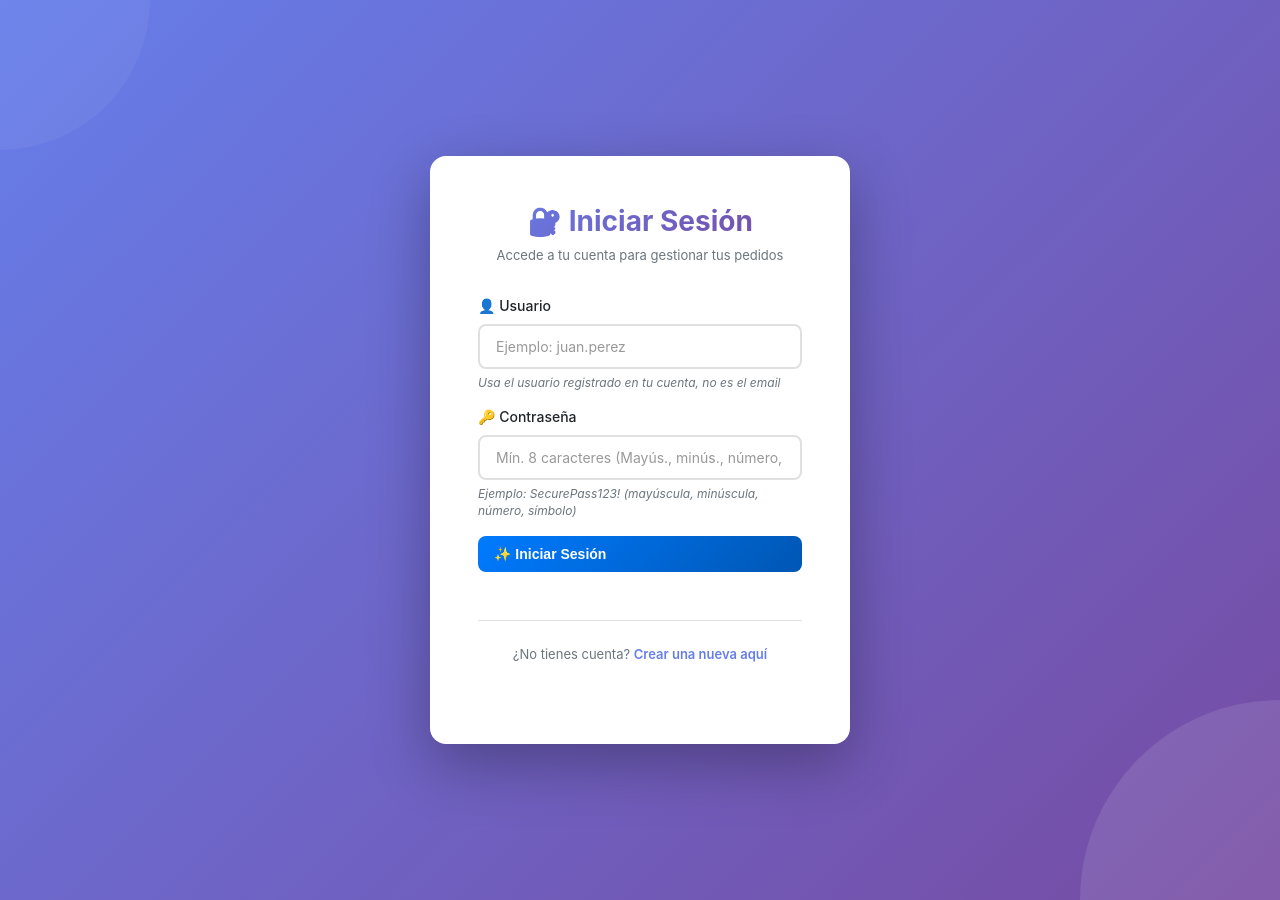
Login Component › should show validation error if password is empty
In the field labelled "👤 Usuario": [640, 347] box [478, 324, 802, 369], type "testuser"
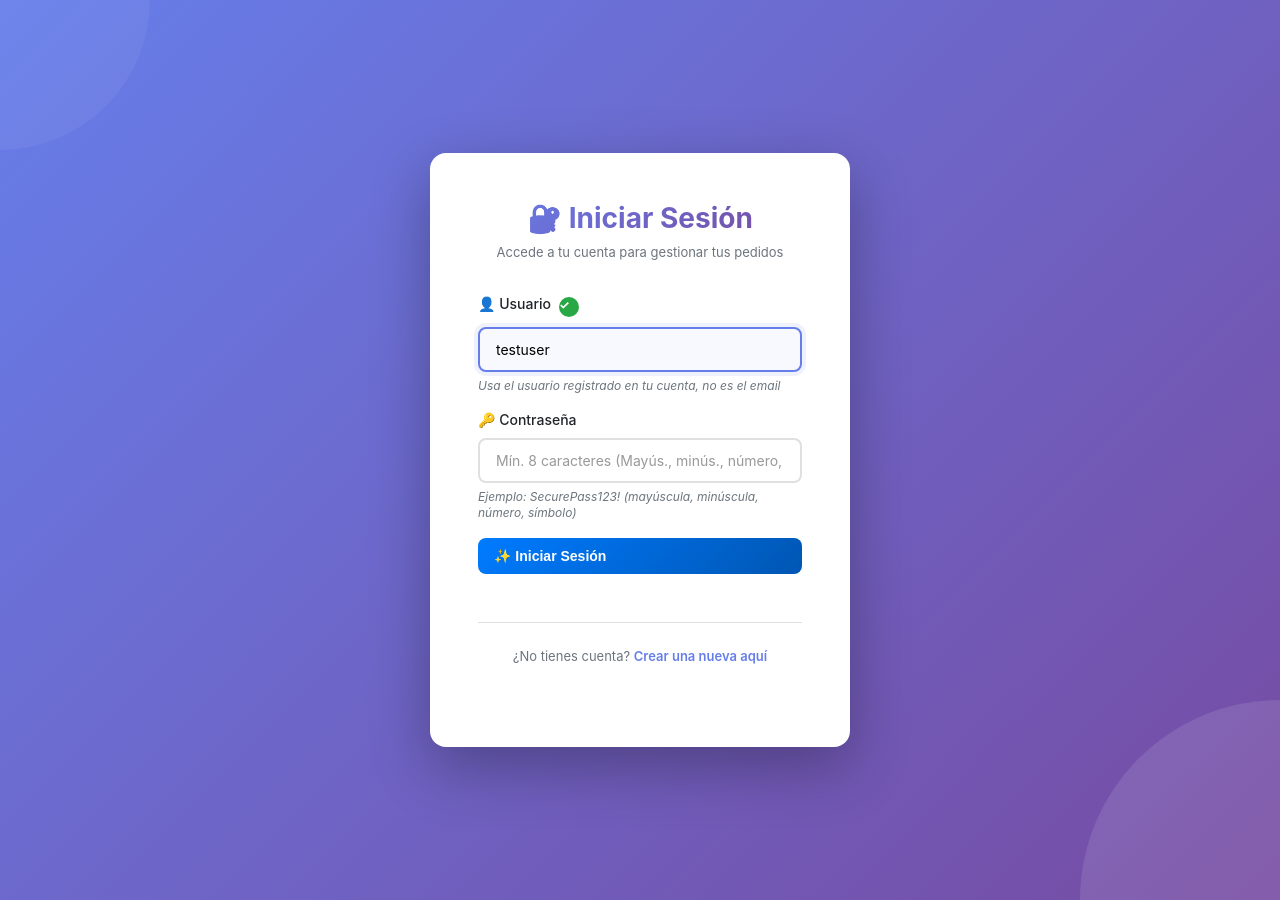
Click the button "✨ Iniciar Sesión": [550, 556] box [478, 538, 802, 574]
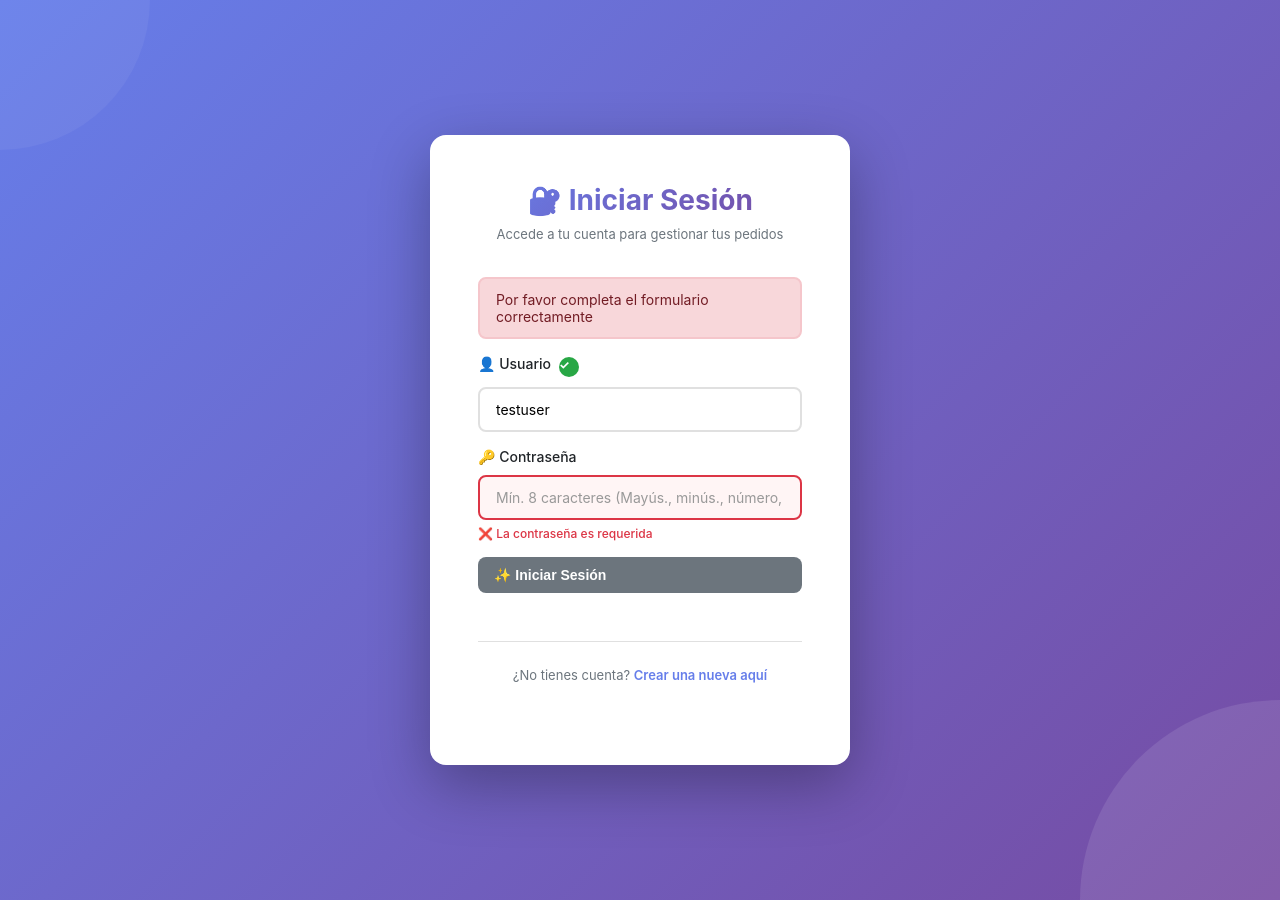
Expected: the text "❌ La contraseña es requerida" is shown, [478, 526, 652, 540]
